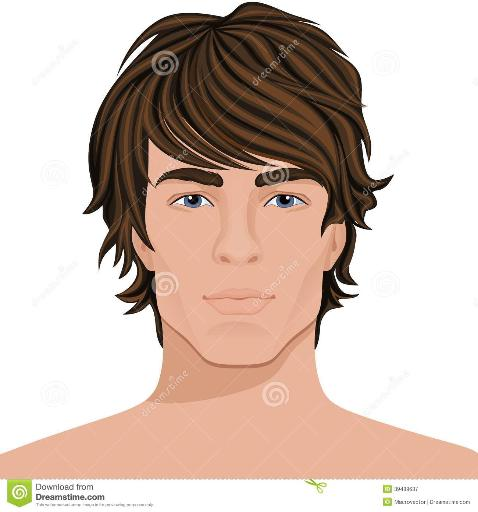left_eye: (265, 193, 315, 211)
left_lip_corner: (268, 295, 280, 303)
right_eye: (166, 193, 217, 211)
right_lip_corner: (201, 294, 214, 302)
